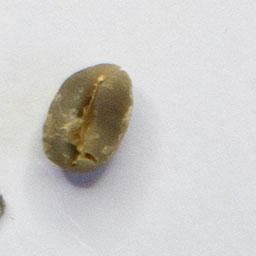peaberry: (38, 61, 136, 176)
